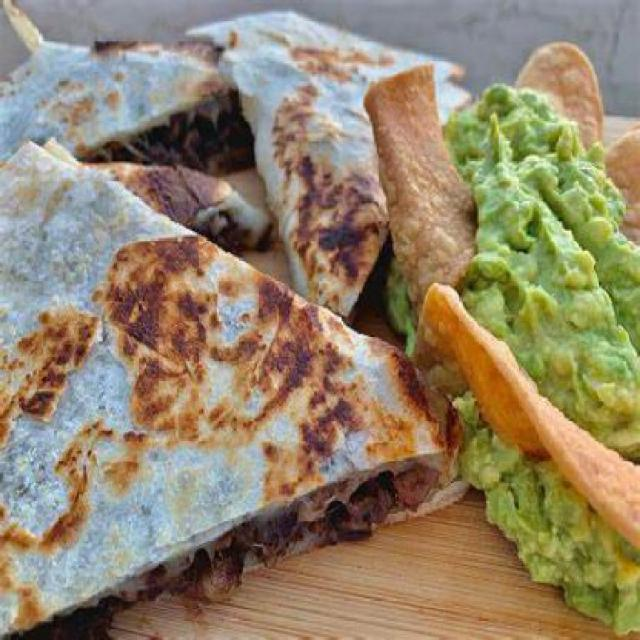chicken quesadilla: (2, 16, 456, 638)
guacamole: (395, 79, 636, 621)
nachos: (421, 283, 636, 557), (513, 30, 639, 244), (376, 55, 456, 303)
